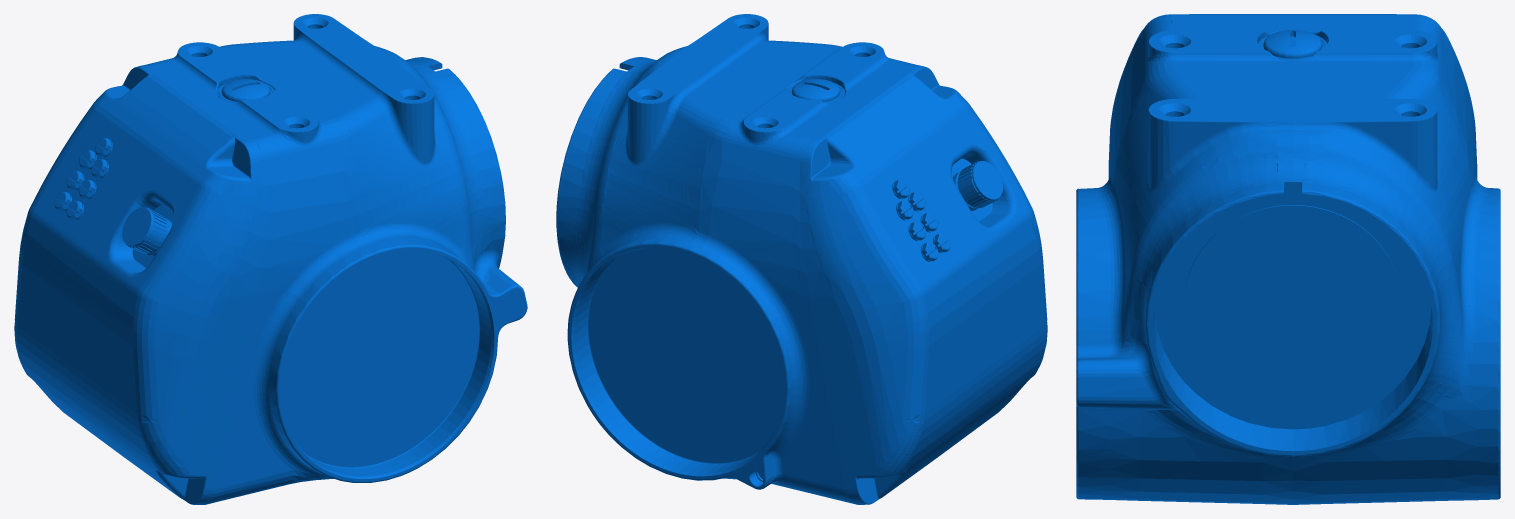
Rendered from MotomanGP7Link3.dae.
The picture shows the model from 3 angles, left to right: view 1: azimuth 30°, elevation 25°; view 2: azimuth 150°, elevation 25°; view 3: azimuth 270°, elevation 25°; orthographic projection. The views are drawn at different scales.
Parts seen in each view (by area): view 1: node_b8455956_9d62_4bd2_9fa0_8d42875a50d2_mesh0; view 2: node_b8455956_9d62_4bd2_9fa0_8d42875a50d2_mesh0; view 3: node_b8455956_9d62_4bd2_9fa0_8d42875a50d2_mesh0.
Boxes of the visible parts, left/top/right/bottom form: node_b8455956_9d62_4bd2_9fa0_8d42875a50d2_mesh0: left=14, top=14, right=527, bottom=504; node_b8455956_9d62_4bd2_9fa0_8d42875a50d2_mesh0: left=556, top=14, right=1047, bottom=504; node_b8455956_9d62_4bd2_9fa0_8d42875a50d2_mesh0: left=1076, top=14, right=1500, bottom=504.
Size of the model in its own units: 0.175 by 0.144 by 0.1578.
